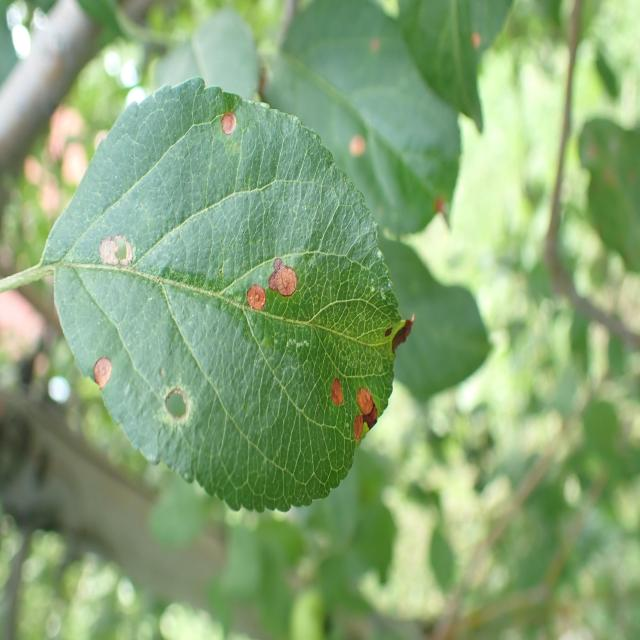Black Rot: (146, 359, 199, 436), (344, 385, 385, 453), (91, 228, 142, 281), (262, 243, 300, 301), (235, 272, 271, 318), (82, 352, 119, 390), (213, 99, 239, 149), (322, 360, 346, 414)
